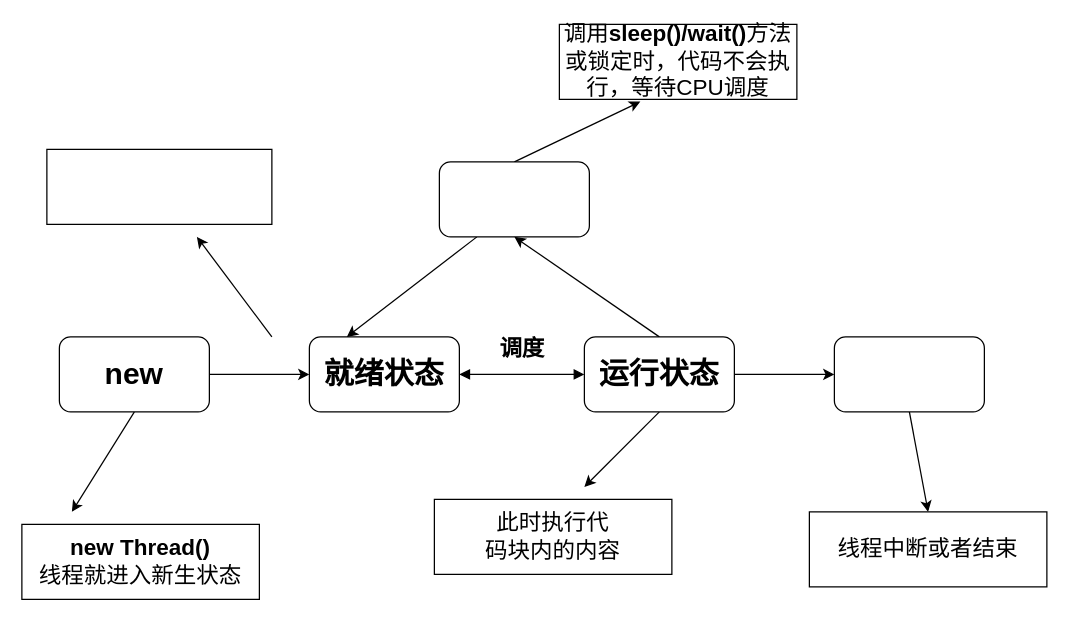
This 1069x621 diagram has some shape labels left out. The shapes that lost their labels are listed below. From the top down, each one's centre as x and y in pixels, then its label:
At (159,186): "当调用start()方法， 线程就进入就绪状态".
At (513,199): "阻塞状态".
At (908,374): "dead".
